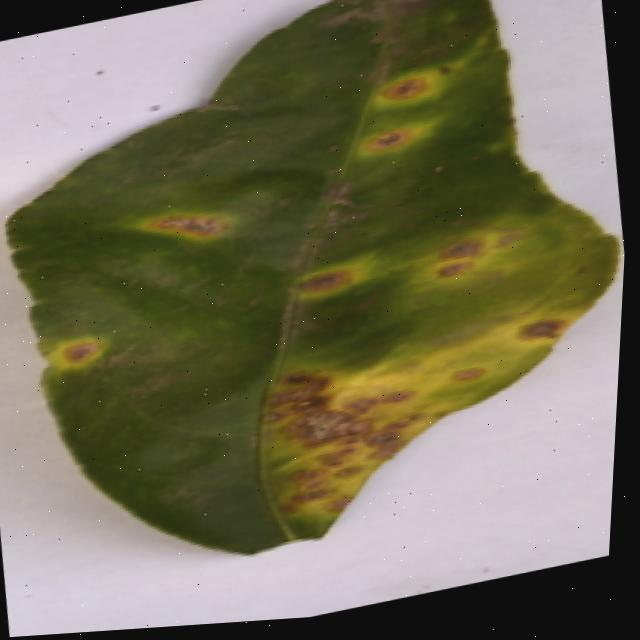canker: (12, 0, 615, 552), (229, 273, 612, 572), (349, 52, 460, 177), (410, 206, 523, 304), (282, 247, 371, 323), (144, 191, 237, 260), (46, 329, 109, 386)
